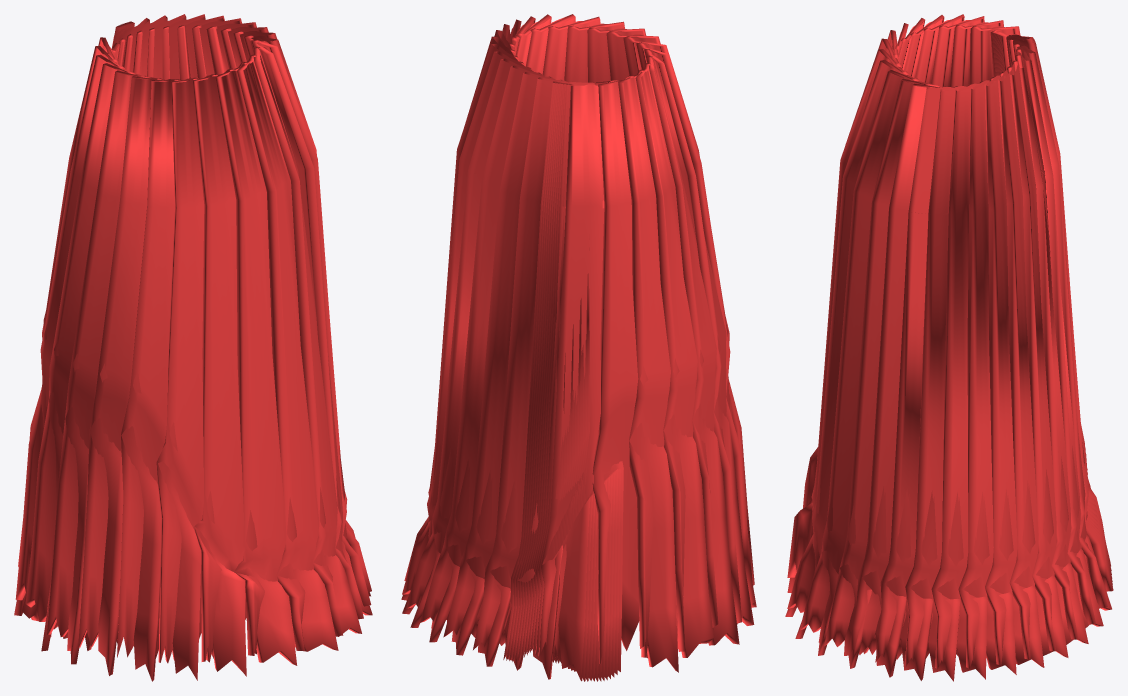
File: manto.fbx
3 renders of one model, left to right at view 1: azimuth 30°, elevation 25°; view 2: azimuth 150°, elevation 25°; view 3: azimuth 270°, elevation 25°, orthographic.
Parts seen in each view (by area): view 1: GorroEsquerda.001; view 2: GorroEsquerda.001; view 3: GorroEsquerda.001.
Boxes of the visible parts, x1,y1,x2,y2 form: GorroEsquerda.001: (14,14,372,681); GorroEsquerda.001: (401,14,756,681); GorroEsquerda.001: (785,14,1113,681).
Size of the model in its own units: 371 by 638 by 343.
1 material, 1 textured.
